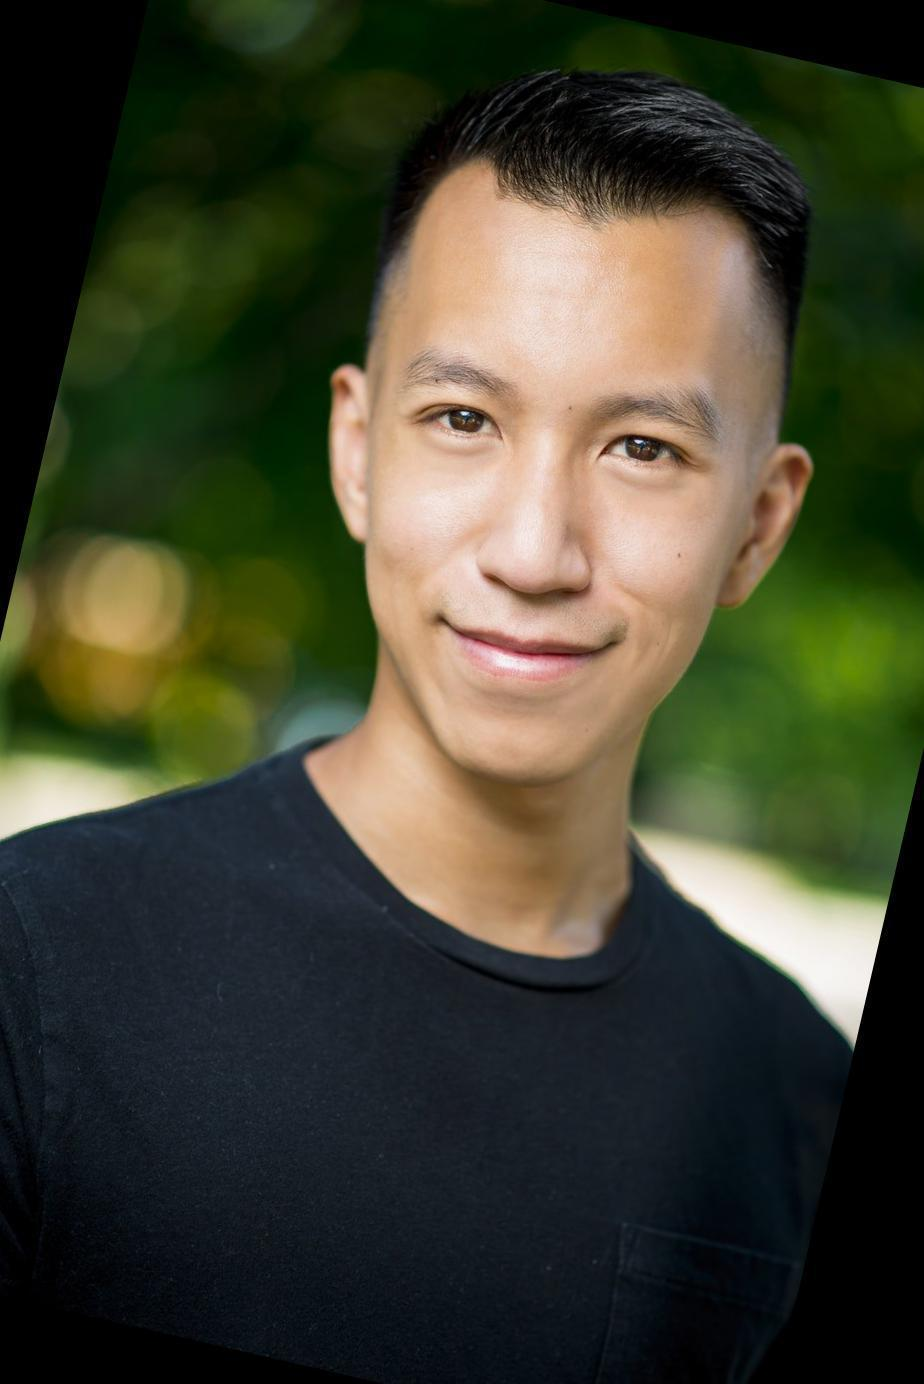Sober: (398, 201, 747, 785)
